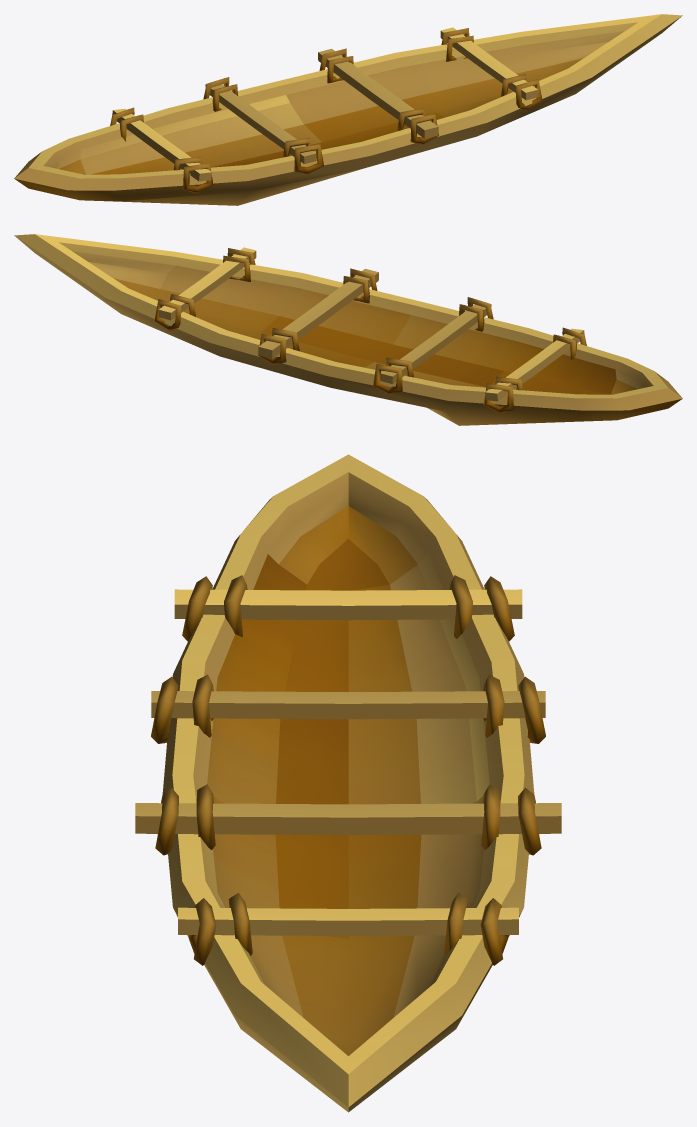
File: SM_Boat_Small_01.fbx
3 views of the same model, one above another, from view 1: azimuth 30°, elevation 25°; view 2: azimuth 150°, elevation 25°; view 3: azimuth 270°, elevation 25° (orthographic). The views are drawn at different scales.
Parts seen in each view (by area): view 1: SM_Boat_Small_01; view 2: SM_Boat_Small_01; view 3: SM_Boat_Small_01.
Part boxes in pixels (x1,y1,x2,y2): SM_Boat_Small_01: (14,14,682,205); SM_Boat_Small_01: (14,234,682,425); SM_Boat_Small_01: (135,454,561,1112).
Size of the model in its own units: 7.38 by 0.8333 by 2.04.
